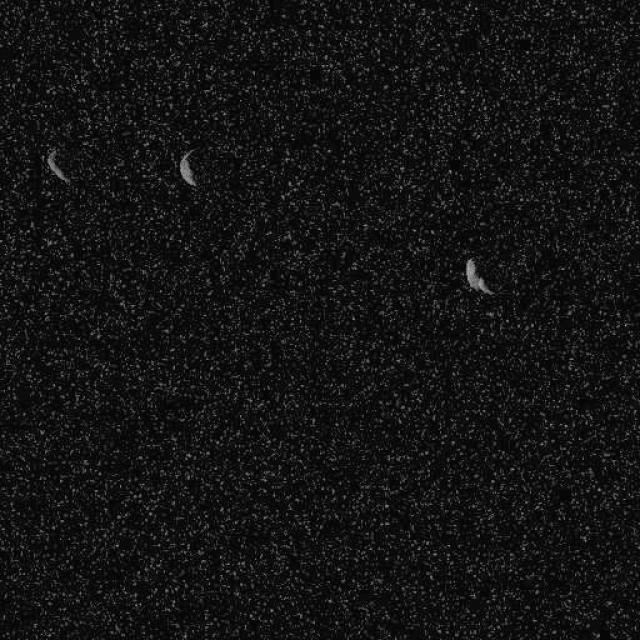D2: (464, 256, 494, 296), (45, 147, 70, 185), (178, 146, 200, 188)
